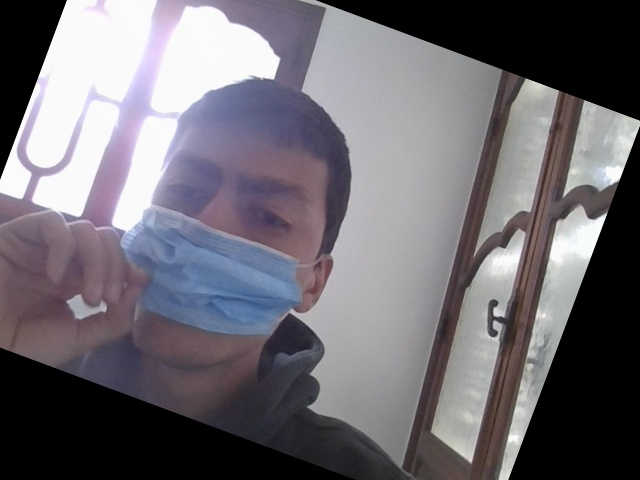mask_weared_incorrect: (127, 99, 326, 372)
